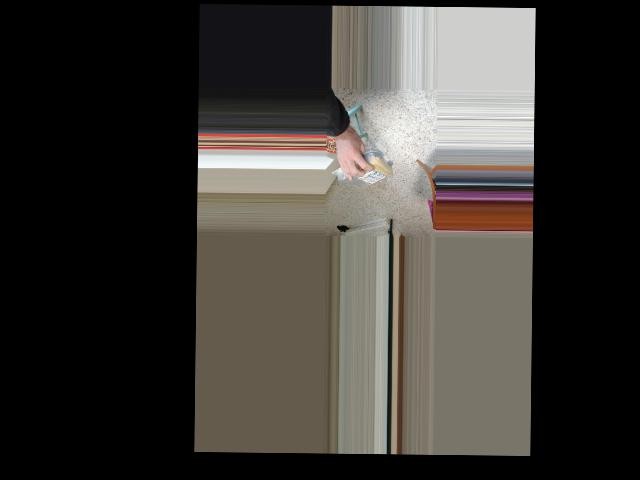cheese: (332, 155, 393, 185)
